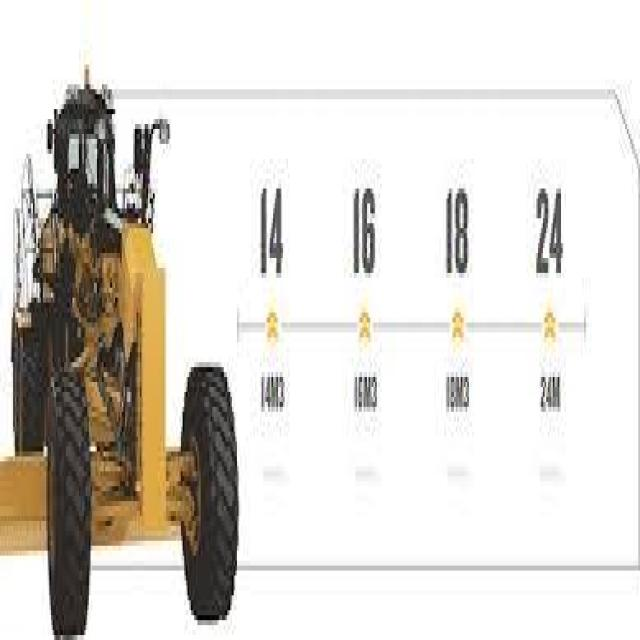buldozerpayloadergrader: (3, 69, 240, 635)
